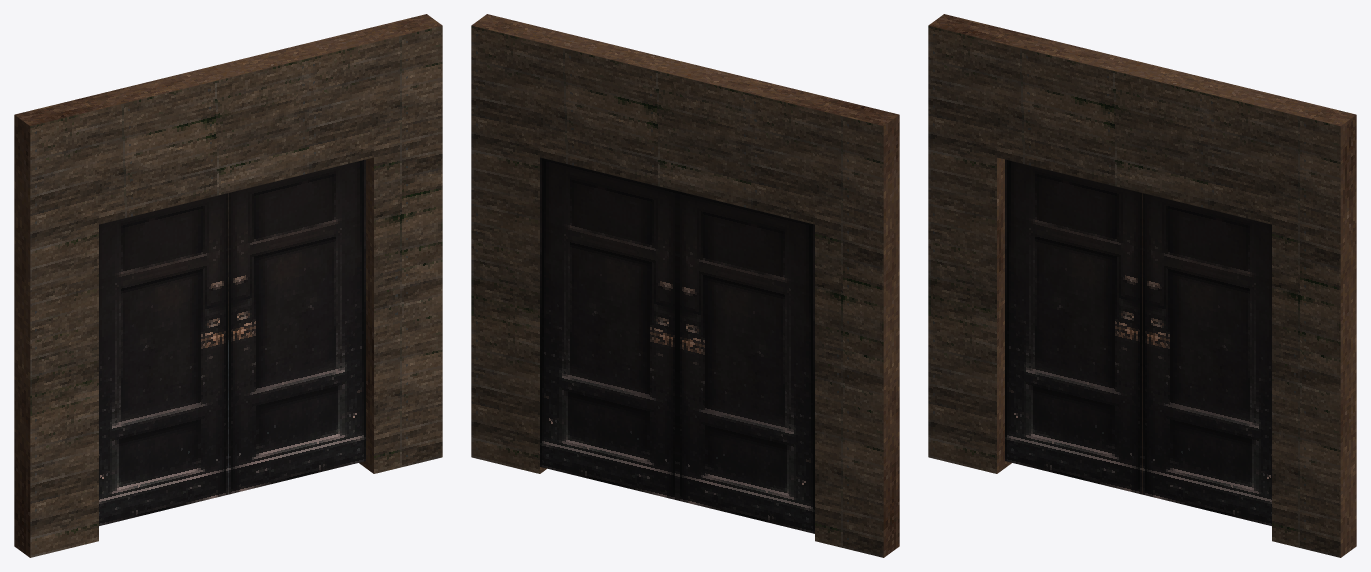
The model's file is door_double_04.glb.
3 renders of one model, left to right at view 1: azimuth 30°, elevation 25°; view 2: azimuth 150°, elevation 25°; view 3: azimuth 330°, elevation 25°, orthographic.
Visible parts, largest first — view 1: door_double_042, door_04_003, door_04_001; view 2: door_double_042, door_04_001, door_04_003; view 3: door_double_042, door_04_001, door_04_003.
Boxes of the visible parts, left/top/right/bottom form: door_double_042: left=14, top=14, right=442, bottom=557; door_04_003: left=228, top=159, right=365, bottom=494; door_04_001: left=99, top=193, right=228, bottom=525; door_double_042: left=471, top=14, right=899, bottom=557; door_04_001: left=677, top=191, right=814, bottom=533; door_04_003: left=540, top=157, right=677, bottom=500; door_double_042: left=928, top=14, right=1356, bottom=557; door_04_001: left=1005, top=159, right=1142, bottom=494; door_04_003: left=1142, top=193, right=1271, bottom=525.
Bounding box in the file's own units: 3 × 3 × 0.2.
3 materials, 3 textured.
